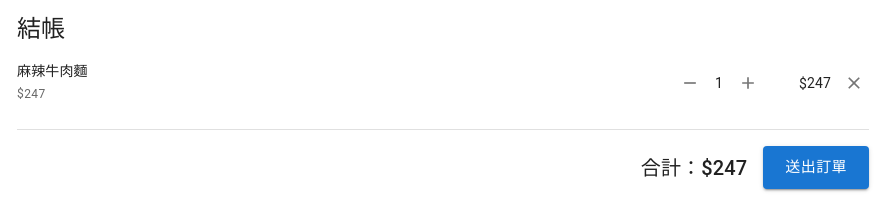
CheckoutPage › boundary › removes item when - is clicked on quantity 1
Click the button named "decrease quantity of 麻辣牛肉麵" at (690, 83), box [675,68,705,98]
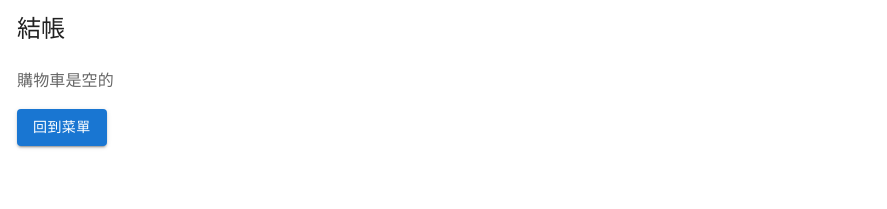
Expected: the text "麻辣牛肉麵" is gone
